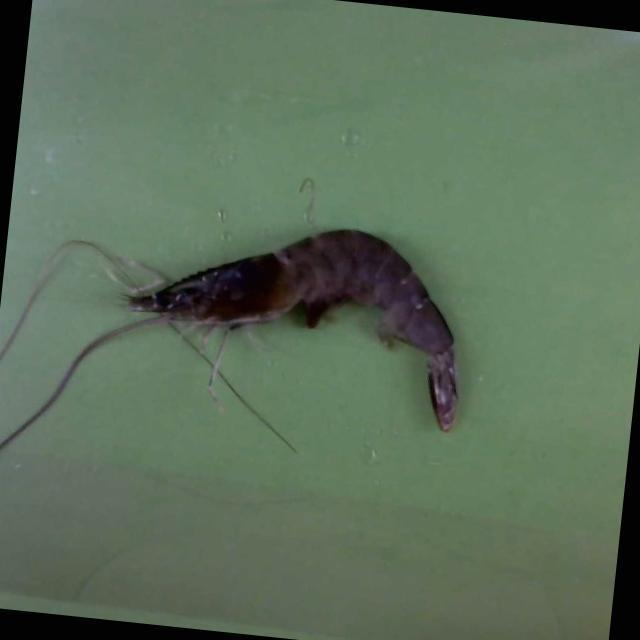shrimp: (128, 229, 458, 431)
